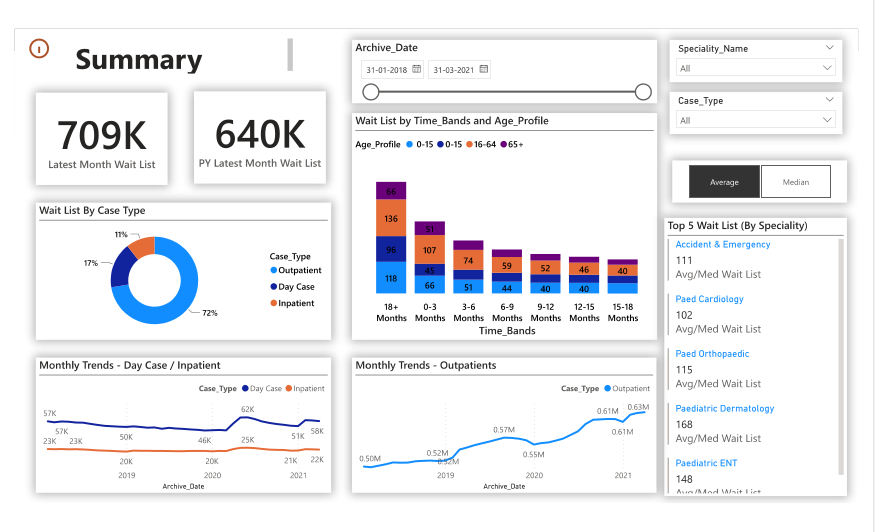

This screenshot's page, from the dashboard's own definition file:
{"tool":"powerbi","page":{"name":"Summary","canvas":[1280,720],"ordinal":0},"visuals":[{"type":"slicer","fields":{"Values":["Calculation Method.Calc Method"]},"box":[997.8,199.9,265.4,63.8],"z":0},{"type":"card","fields":{"Values":["All Data.Latest Month Wait List"]},"box":[31.7,96.7,200,140],"z":1000},{"type":"card","fields":{"Values":["All Data.PY Latest Month Wait List"]},"box":[271.7,95,200,140],"z":2000},{"type":"donutChart","title":"Wait List By Case Type","fields":{"Category":["All Data.Case_Type"],"Y":["All Data.Avg/Med Wait List"]},"box":[31.9,263.7,448.5,208.3],"z":3000},{"type":"columnChart","title":"Wait List by Time_Bands and Age_Profile","fields":{"Y":["All Data.Avg/Med Wait List"],"Category":["All Data.Time_Bands"],"Series":["All Data.Age_Profile"]},"box":[511.7,128.3,463.3,343.3],"z":4000},{"type":"multiRowCard","title":"Top 5 Wait List (By Speciality)","fields":{"Values":["All Data.Speciality_Name","All Data.Avg/Med Wait List"]},"box":[986,287.2,277.2,421.6],"z":5000},{"type":"card","fields":{"Values":["All Data.NoDataLeft"]},"box":[90,571.7,300,83.3],"z":6000},{"type":"lineChart","title":"Monthly Trends - Day Case / Inpatient","fields":{"Category":["All Data.Archive_Date"],"Y":["Sum(All Data.Total)"],"Series":["All Data.Case_Type"]},"box":[31.9,498.9,448.5,204.9],"z":7000},{"type":"card","fields":{"Values":["All Data.NoDataRight"]},"box":[558.3,560,300,83.3],"z":8000},{"type":"lineChart","title":"Monthly Trends - Outpatients","fields":{"Category":["All Data.Archive_Date"],"Y":["Sum(All Data.Total)"],"Series":["All Data.Case_Type"]},"box":[512.3,498.9,461.9,204.9],"z":9000},{"type":"slicer","title":"Archive_Date","fields":{"Values":["All Data.Archive_Date"]},"box":[511.7,16.7,463.3,96.7],"z":10000},{"type":"slicer","fields":{"Values":["All Data.Case_Type"]},"box":[994.4,95.7,262,63.8],"z":11000},{"type":"slicer","fields":{"Values":["All Data.Speciality_Name"]},"box":[994.4,16.8,262,63.8],"z":12000},{"type":"textbox","box":[86.7,10,340,63.3],"z":13000},{"type":"actionButton","box":[16.7,10,58.3,40],"z":14000}]}

Visuals, with their boxes on the page's 1280x720 design canvas (x1, y1, x2, y2). These are canvas units, not pixel positions in the 875x532 screenshot, which may show the page scaled, cropped or inside an application window:
slicer - Calculation Method.Calc Method: (998,200,1263,264)
card - All Data.Latest Month Wait List: (32,97,232,237)
card - All Data.PY Latest Month Wait List: (272,95,472,235)
"Wait List By Case Type" donutChart: (32,264,480,472)
"Wait List by Time_Bands and Age_Profile" columnChart: (512,128,975,472)
"Top 5 Wait List (By Speciality)" multiRowCard: (986,287,1263,709)
card - All Data.NoDataLeft: (90,572,390,655)
"Monthly Trends - Day Case / Inpatient" lineChart: (32,499,480,704)
card - All Data.NoDataRight: (558,560,858,643)
"Monthly Trends - Outpatients" lineChart: (512,499,974,704)
"Archive_Date" slicer: (512,17,975,113)
slicer - All Data.Case_Type: (994,96,1256,160)
slicer - All Data.Speciality_Name: (994,17,1256,81)
textbox: (87,10,427,73)
actionButton: (17,10,75,50)
